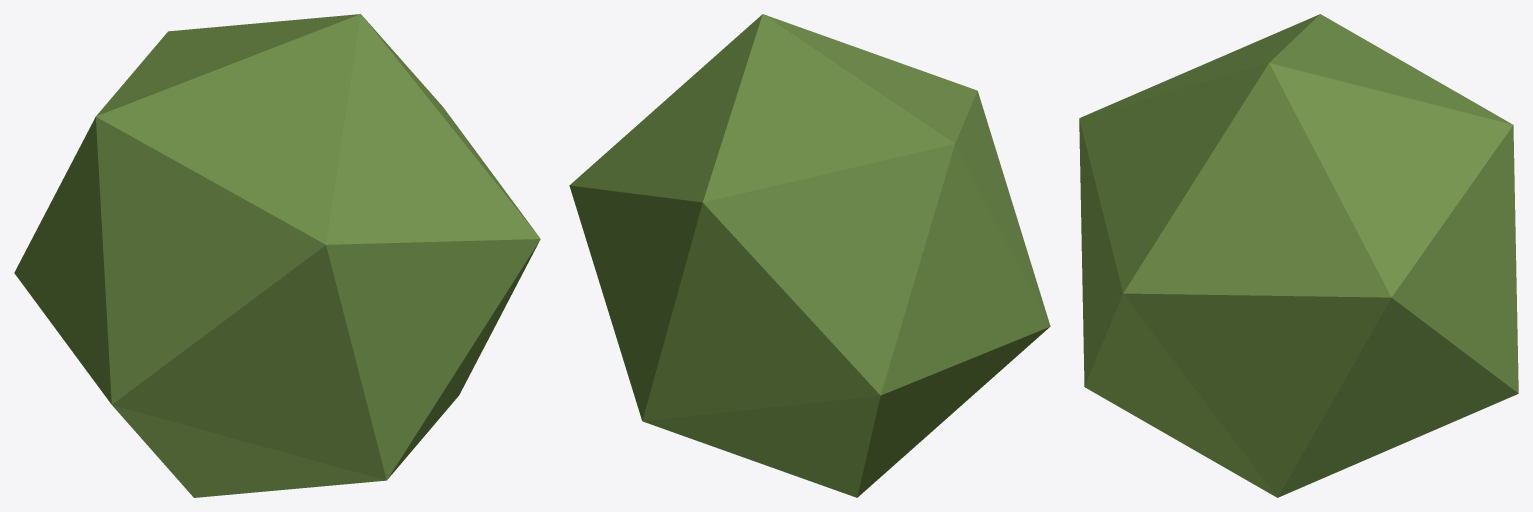
File: canopy-5.glb
The picture shows the model from 3 angles, left to right: view 1: azimuth 30°, elevation 25°; view 2: azimuth 150°, elevation 25°; view 3: azimuth 270°, elevation 25°; orthographic projection. The views are drawn at different scales.
Parts seen in each view (by area): view 1: Canopy 5; view 2: Canopy 5; view 3: Canopy 5.
Boxes of the visible parts, <box> form: Canopy 5: <box>14,14,540,497</box>; Canopy 5: <box>569,14,1050,497</box>; Canopy 5: <box>1079,14,1518,497</box>.
Bounding box in the file's own units: 25.31 × 26.71 × 23.72.
